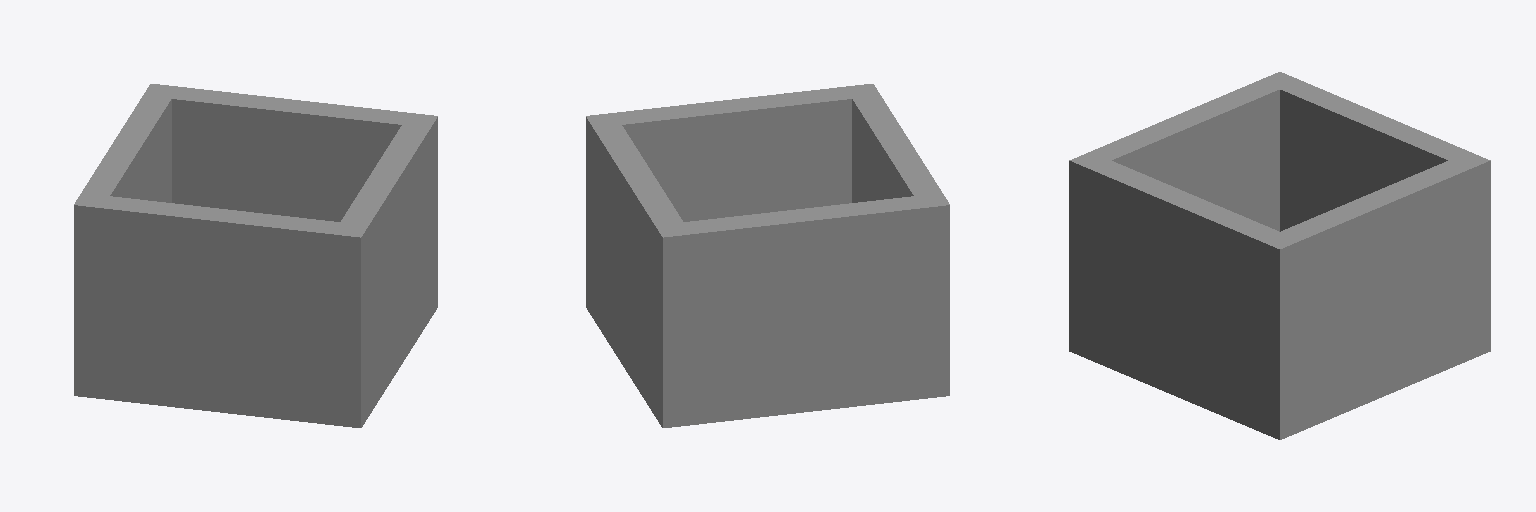
File: gate2.obj
3 views of the same model, side by side, from view 1: azimuth 30°, elevation 25°; view 2: azimuth 150°, elevation 25°; view 3: azimuth 270°, elevation 25° (orthographic).
Visible parts, largest first — view 1: Cylinder; view 2: Cylinder; view 3: Cylinder.
Boxes of the visible parts, x1,y1,x2,y2 form: Cylinder: [74, 84, 437, 427]; Cylinder: [586, 84, 949, 427]; Cylinder: [1069, 72, 1490, 439].
Bounding box in the file's own units: 2 × 1 × 2.